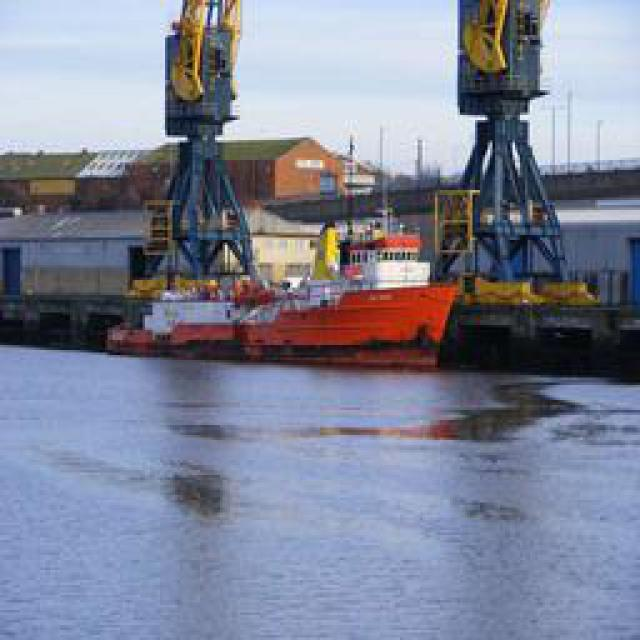Ship: (154, 275, 454, 370)
